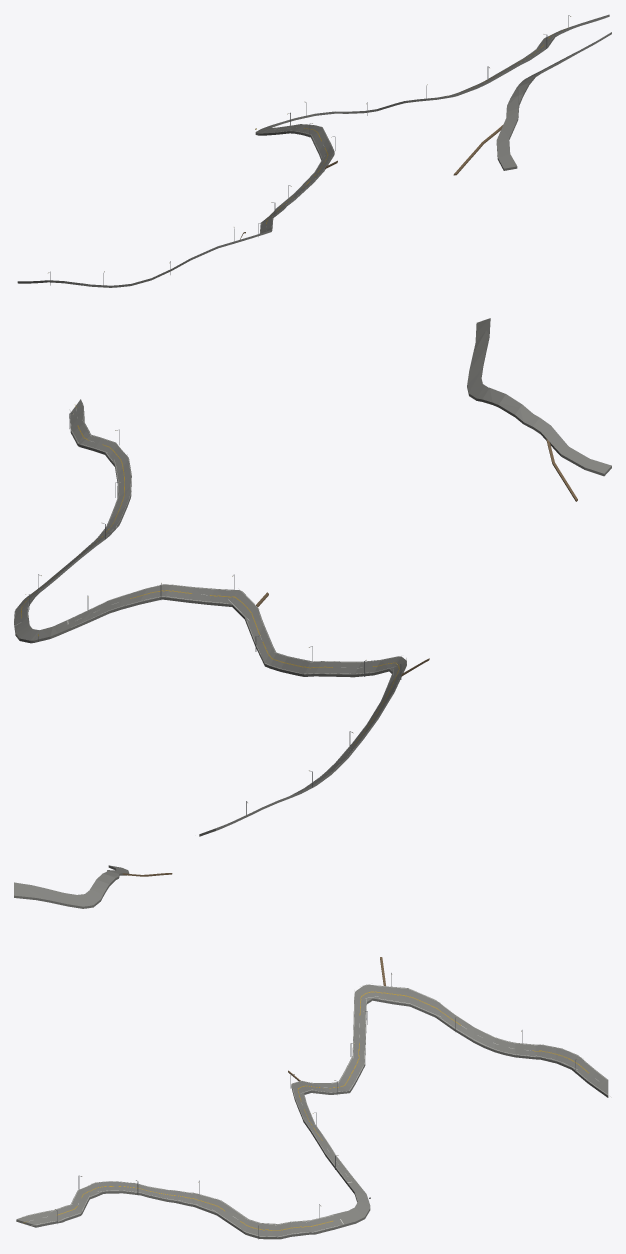
3 views of the same model, one above another, from view 1: azimuth 90°, elevation 25°; view 2: azimuth 150°, elevation 25°; view 3: azimuth 270°, elevation 25° (orthographic). The views are drawn at different scales.
Bounding box in the file's own units: 295 × 127 × 293.
